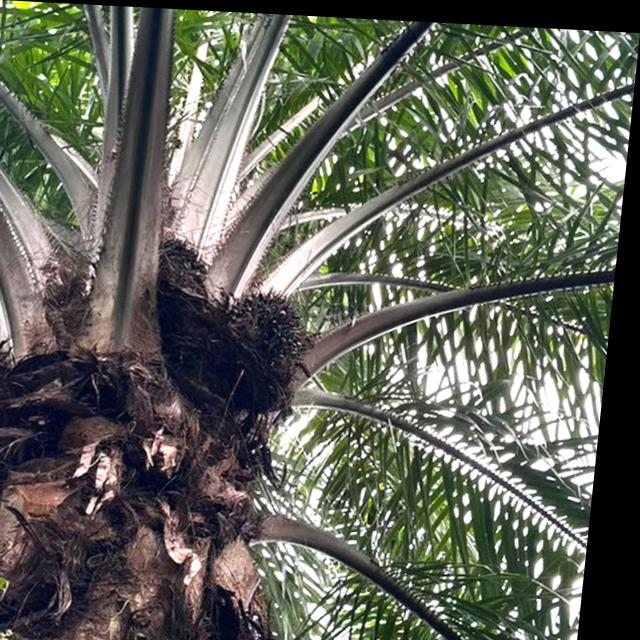unripe: (227, 279, 338, 397), (155, 226, 225, 324)
